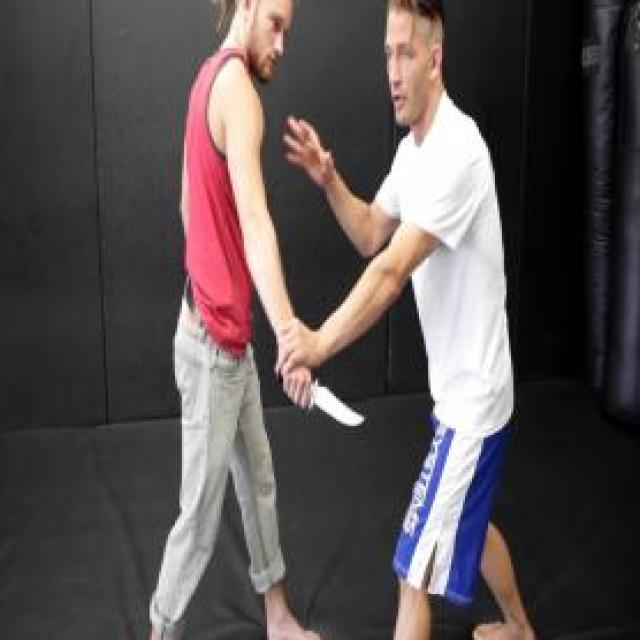knife: (274, 370, 367, 438)
